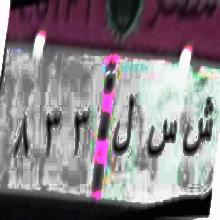3: (42, 103, 63, 171), (73, 101, 90, 162)
8: (11, 109, 31, 166)
laam: (112, 88, 135, 164)
seen: (146, 111, 178, 167)
sheen: (181, 92, 214, 173)
